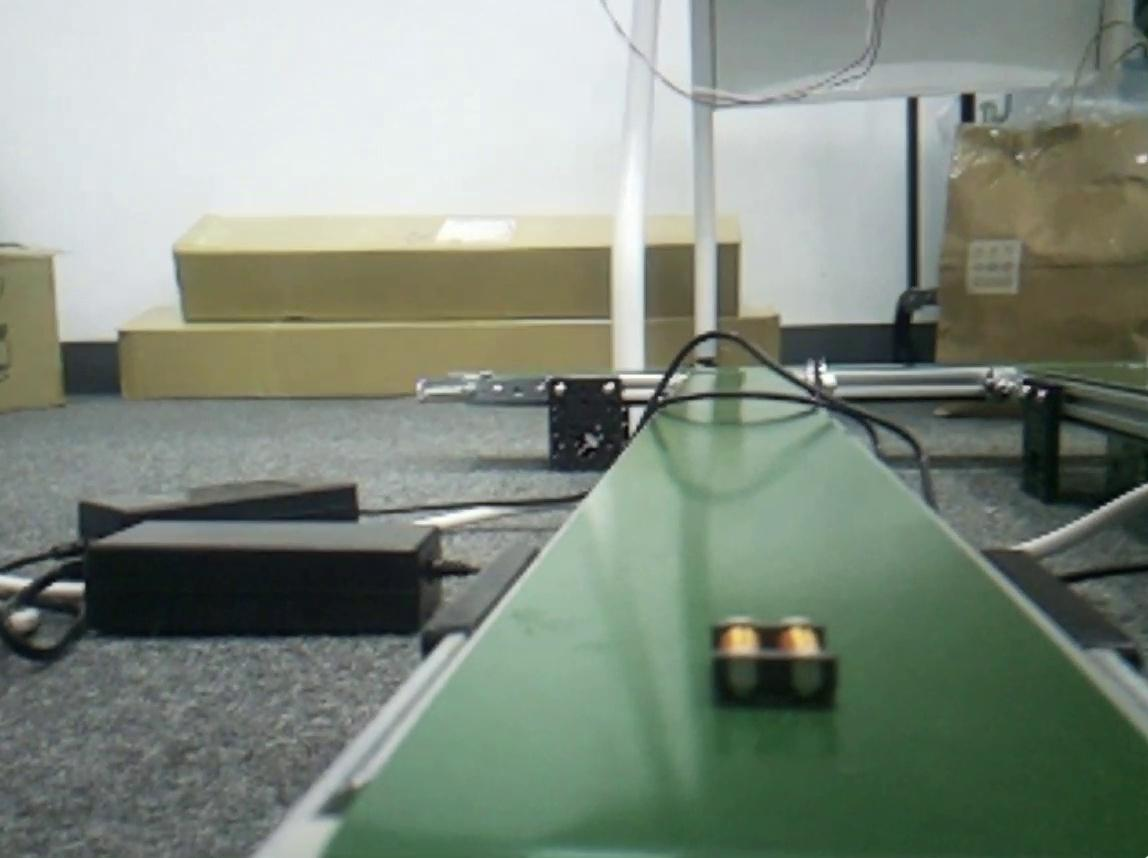inductor: (715, 617, 838, 707)
